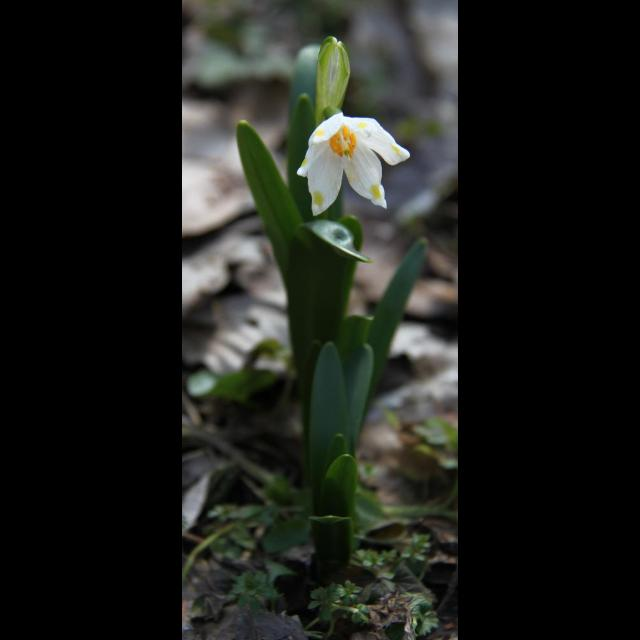Flower: (292, 109, 412, 214)
